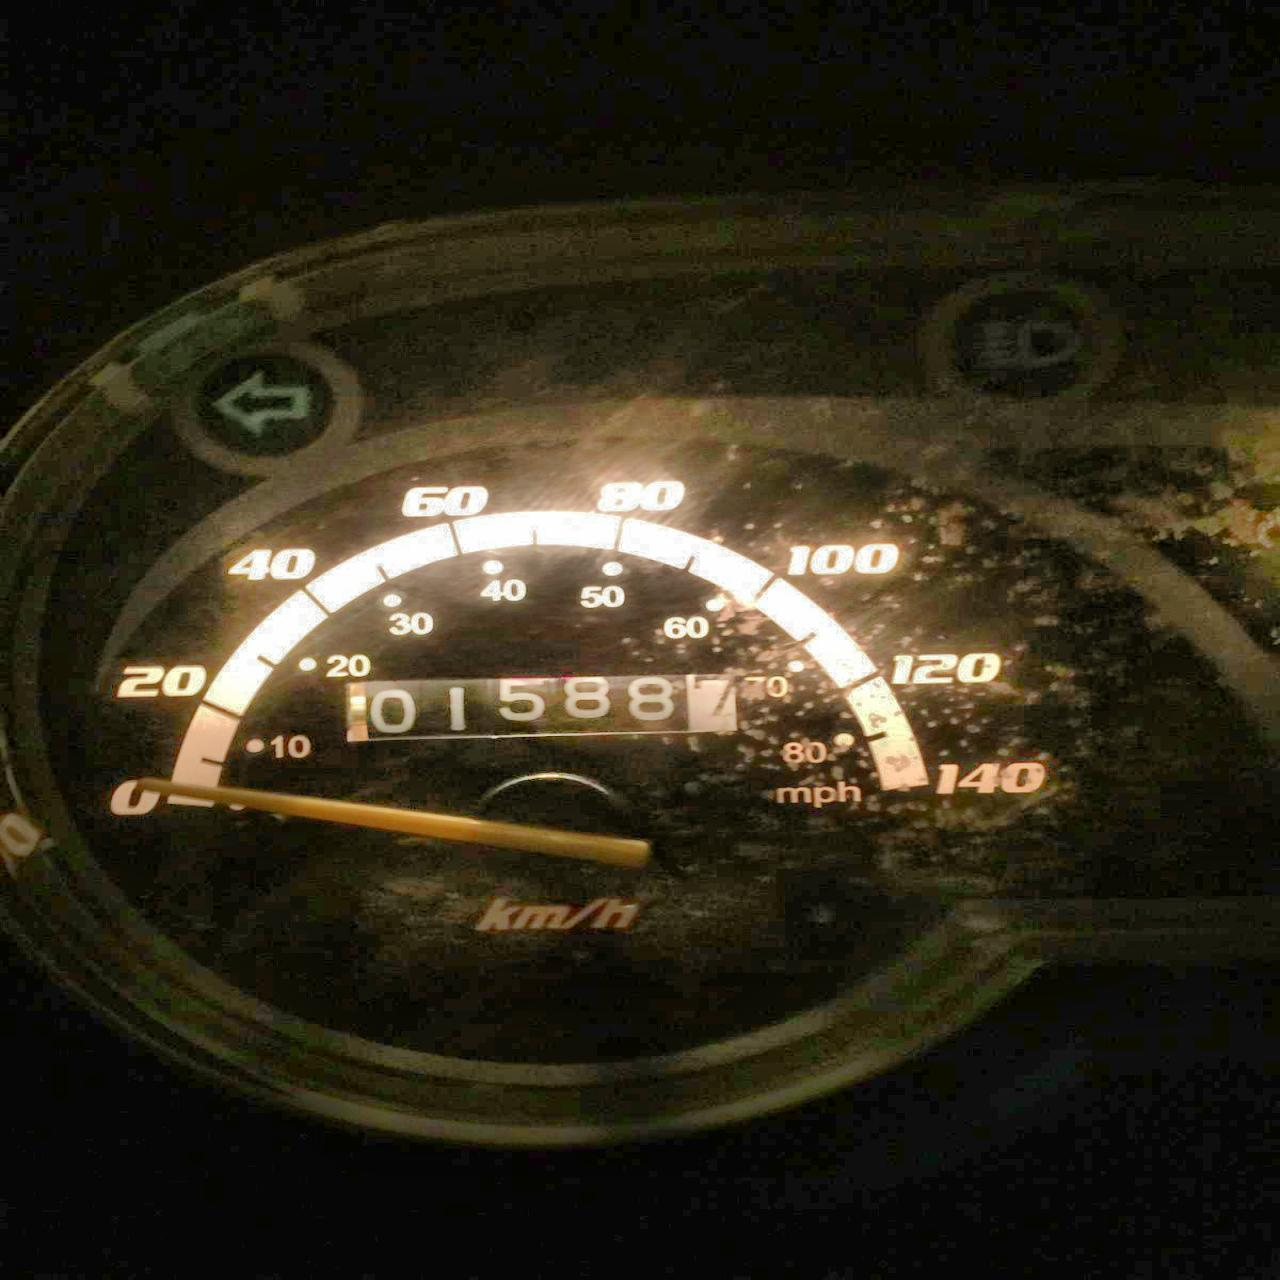0: (368, 688, 418, 735)
1: (441, 680, 477, 735)
5: (495, 676, 550, 726)
7: (686, 674, 742, 729)
8: (621, 675, 675, 727), (563, 676, 617, 727)
odometer: (333, 673, 754, 747)
